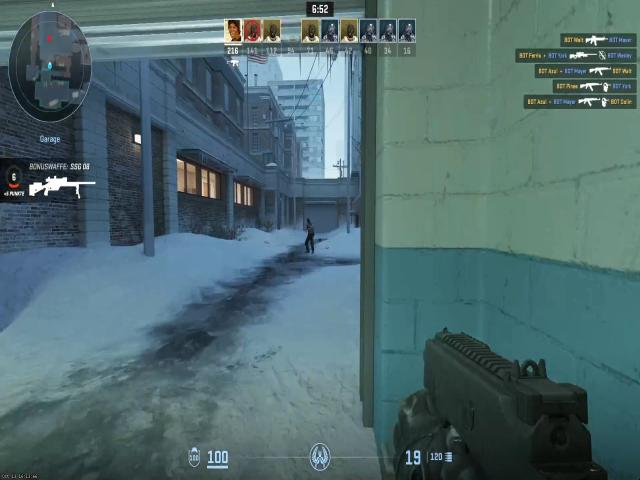T: (305, 217, 316, 243)
T-Head: (306, 218, 314, 230)
